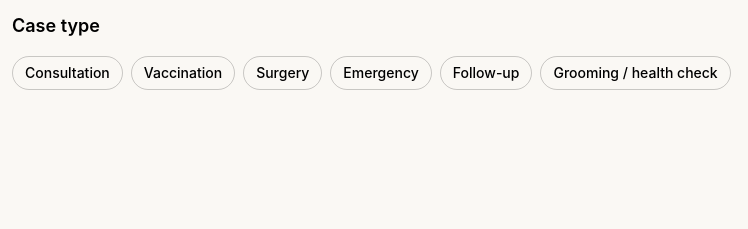
Test: CaseTypeStep › fetches and shows templates matching the selected type and patient species
Click the button "Vaccination" at (183, 73), box 131,56 -> 235,90
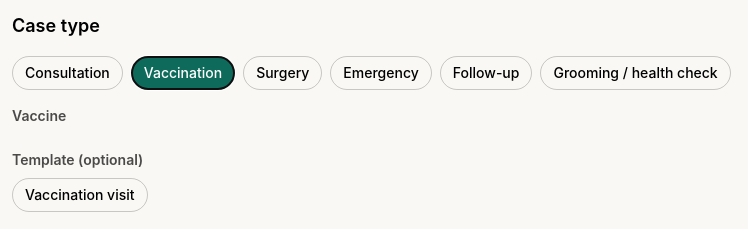
Expected: the button "Vaccination visit" is shown, 12,178 -> 148,212
